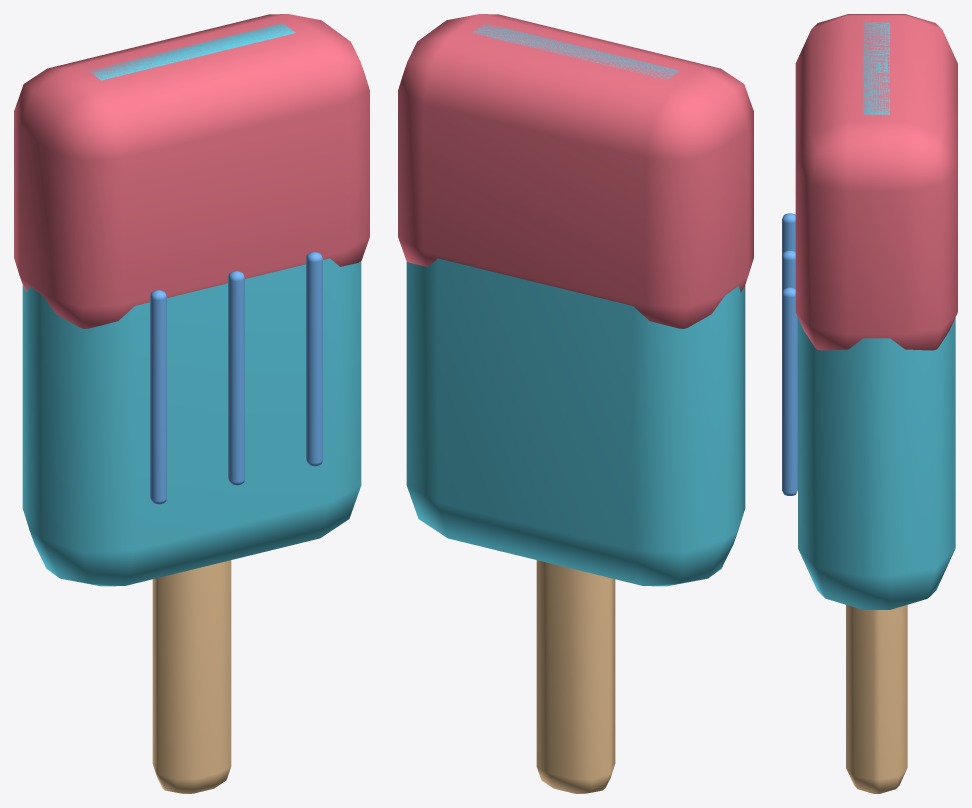
Rendered from popsicle.fbx.
The picture shows the model from 3 angles, left to right: view 1: azimuth 30°, elevation 25°; view 2: azimuth 150°, elevation 25°; view 3: azimuth 270°, elevation 25°; orthographic projection. The views are drawn at different scales.
Parts seen in each view (by area): view 1: popsicle; view 2: popsicle; view 3: popsicle.
Part boxes in pixels (x1,y1,x2,y2): popsicle: [14, 14, 369, 793]; popsicle: [398, 14, 753, 793]; popsicle: [782, 14, 957, 793].
Size of the model in its own units: 44.75 by 100 by 22.15.
Materials: 1 (1 with a texture image).
